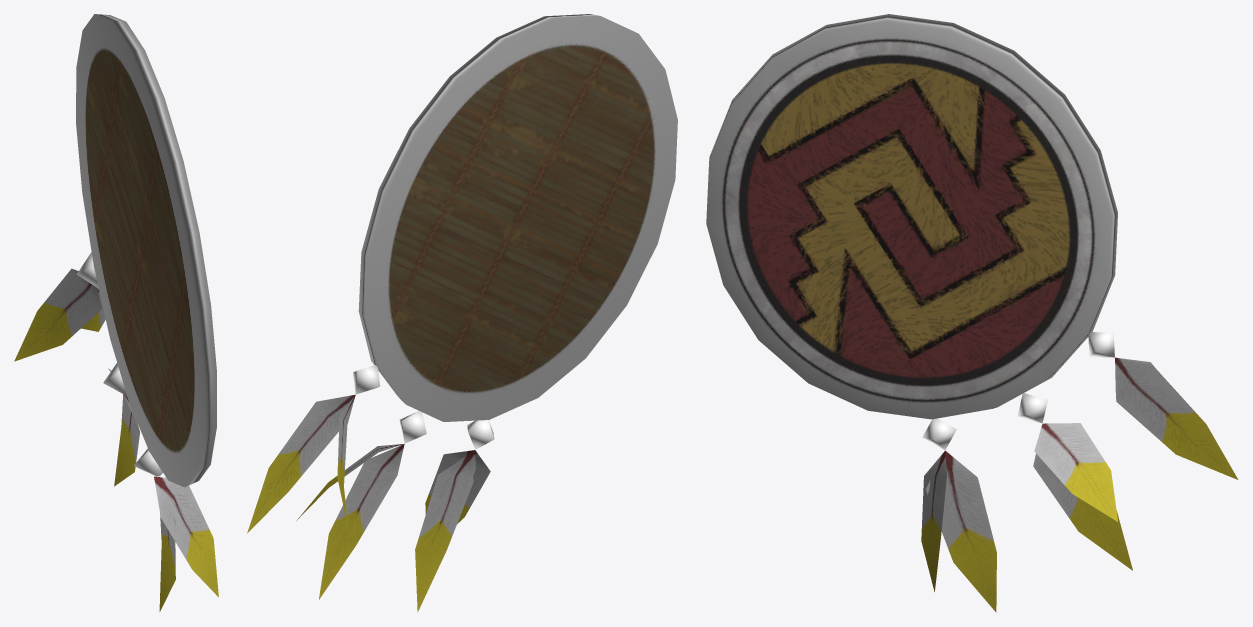
The model's file is shield-ceremonialshields.glb.
3 views of the same model, side by side, from view 1: azimuth 30°, elevation 25°; view 2: azimuth 150°, elevation 25°; view 3: azimuth 270°, elevation 25° (orthographic). The views are drawn at different scales.
Size of the model in its own units: 0.3158 by 1 by 0.8648.
Materials: 1 (1 with a texture image).
